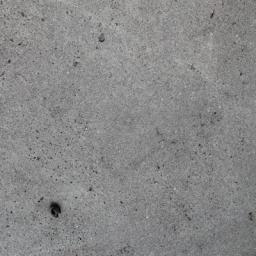FOD: (46, 198, 63, 226)
